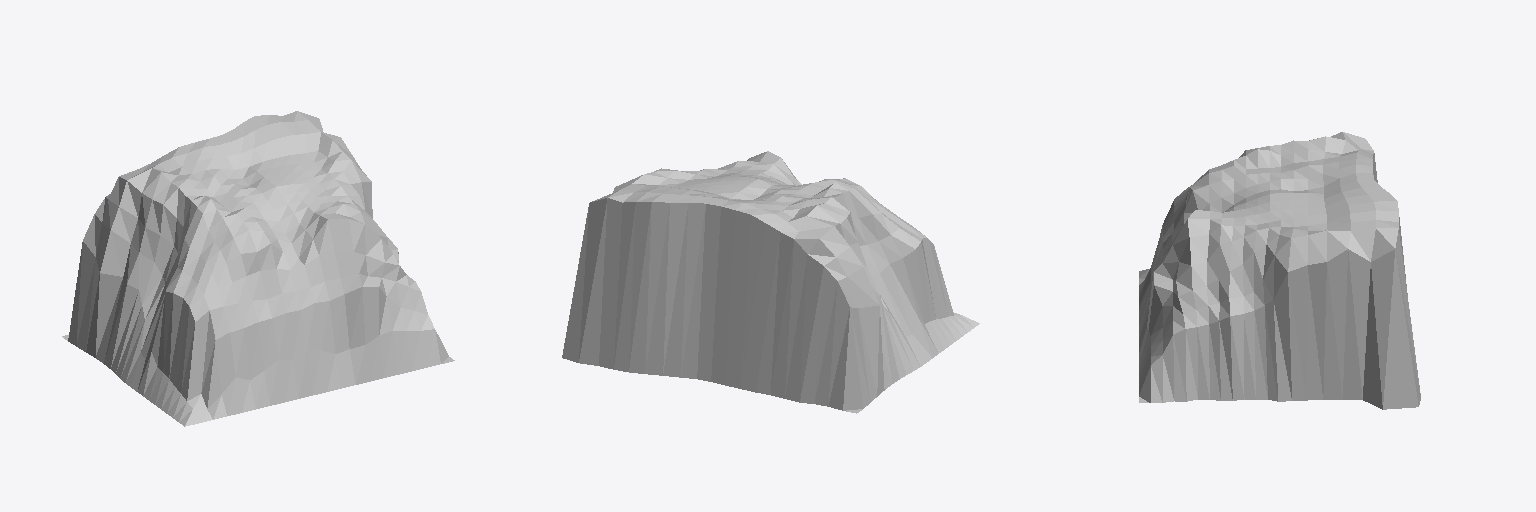
Rendered from Platform2.obj.
3 views of the same model, side by side, from view 1: azimuth 30°, elevation 25°; view 2: azimuth 150°, elevation 25°; view 3: azimuth 270°, elevation 25° (orthographic).
Parts seen in each view (by area): view 1: Platform2; view 2: Platform2; view 3: Platform2.
Boxes of the visible parts, x1,y1,x2,y2 form: Platform2: [62, 111, 454, 426]; Platform2: [562, 151, 979, 413]; Platform2: [1139, 132, 1420, 409].
Size of the model in its own units: 4504 by 2567 by 3883.